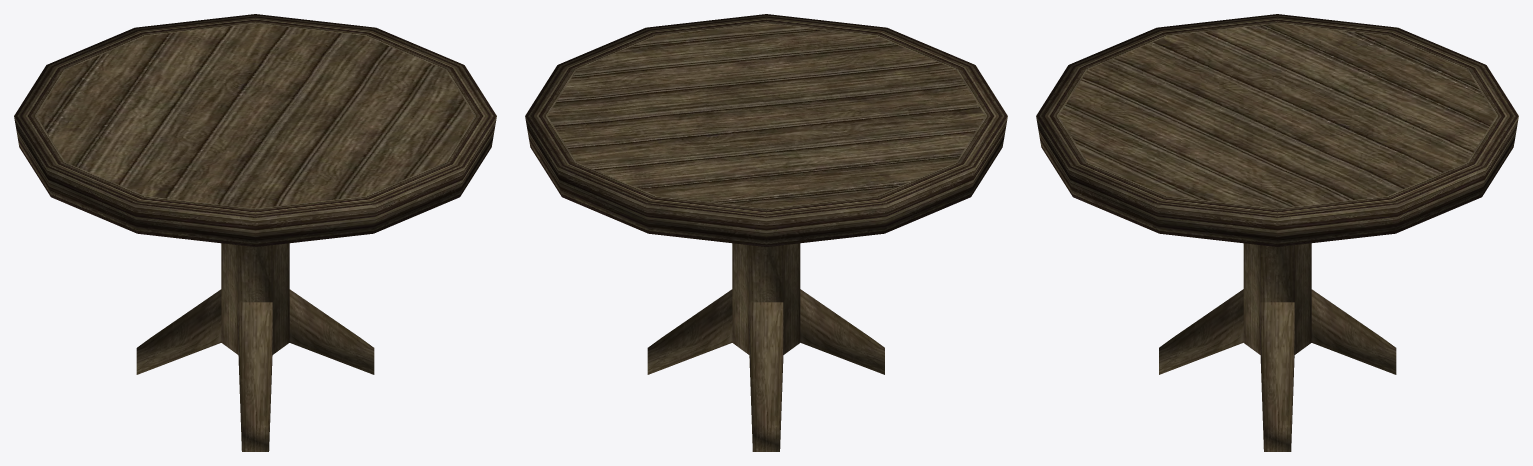
Rendered from GS_TABLE_CIRCULAR_BROWN_01_KOZA.glb.
3 renders of one model, left to right at view 1: azimuth 30°, elevation 25°; view 2: azimuth 150°, elevation 25°; view 3: azimuth 270°, elevation 25°, orthographic.
Visible parts, largest first — view 1: Mesh; view 2: Mesh; view 3: Mesh.
Boxes of the visible parts, x1=… form: Mesh: x1=14, y1=14, x2=496, y2=451; Mesh: x1=525, y1=14, x2=1007, y2=451; Mesh: x1=1036, y1=14, x2=1518, y2=451.
Size of the model in its own units: 1.4 by 0.9 by 1.4.
2 materials, 2 textured.
